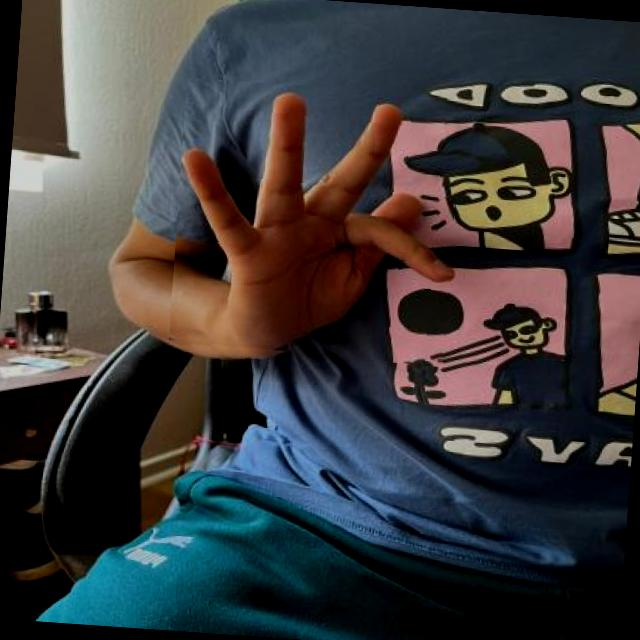F: (168, 77, 464, 367)
